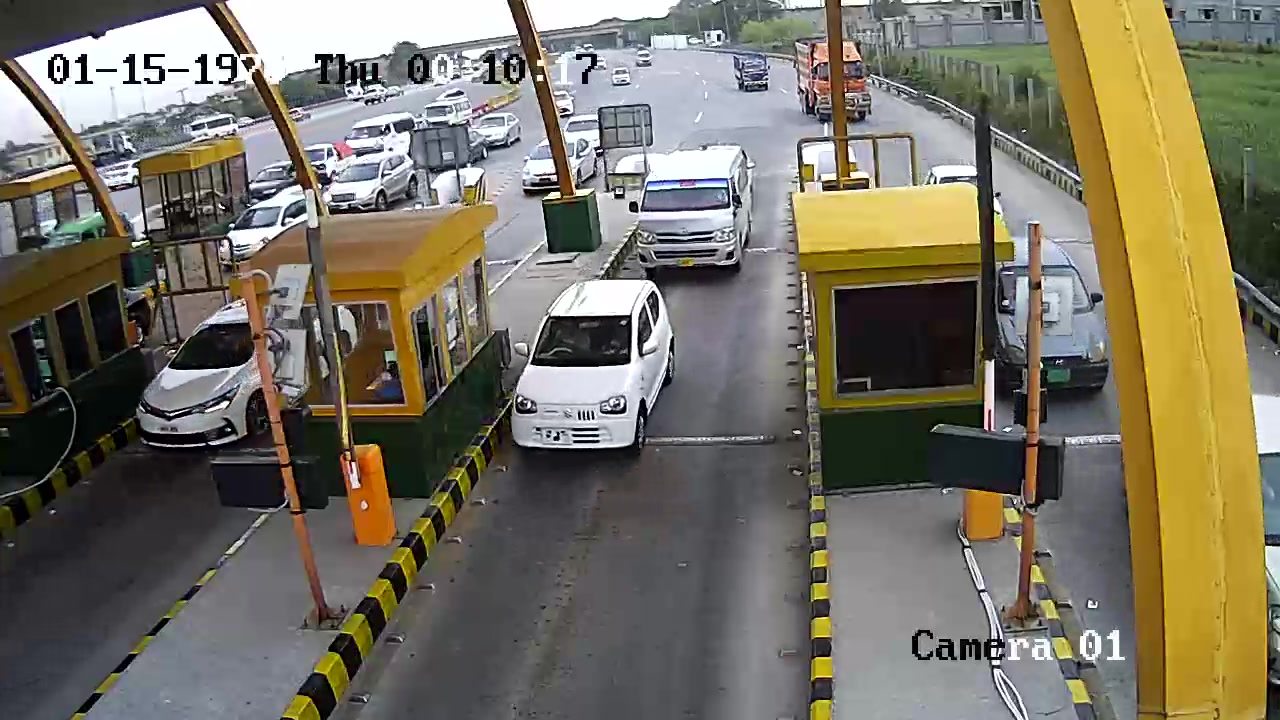F1: (501, 272, 679, 465)
